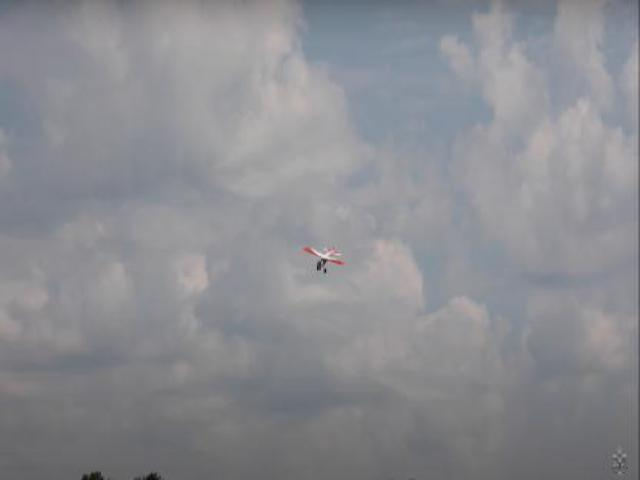uav: (302, 237, 348, 281)
